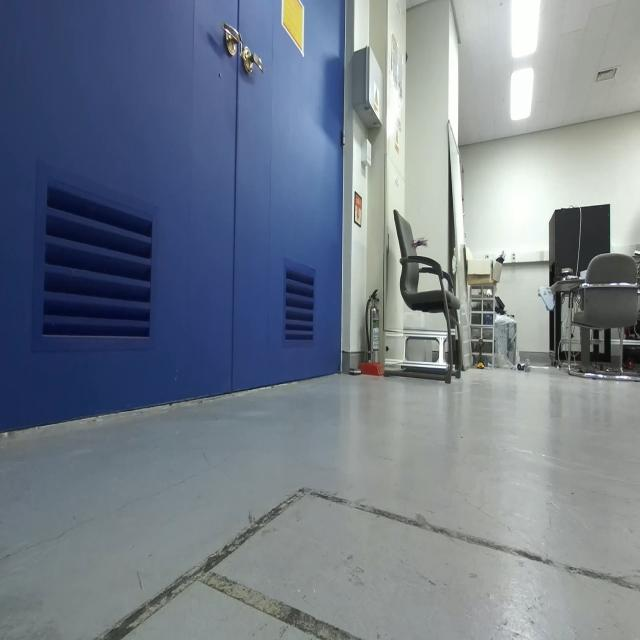crazyflie: (413, 232, 429, 255)
